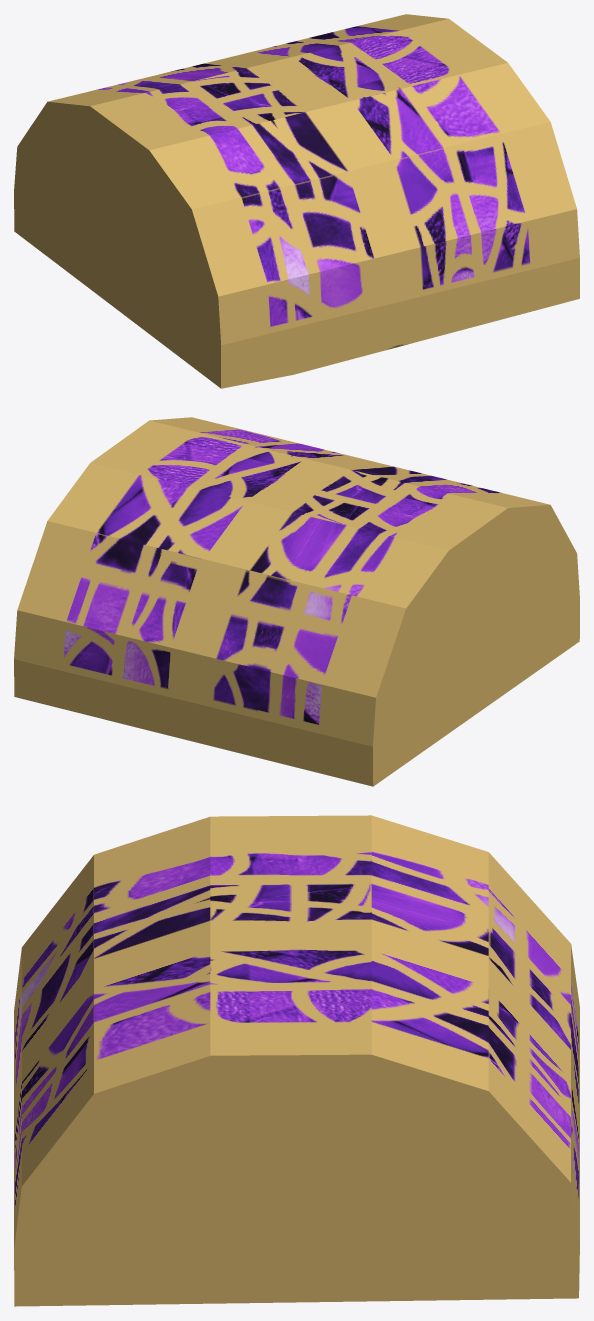
Rendered from chestTop2.glb.
3 views of the same model, one above another, from view 1: azimuth 30°, elevation 25°; view 2: azimuth 150°, elevation 25°; view 3: azimuth 270°, elevation 25° (orthographic). The views are drawn at different scales.
Visible parts, largest first — view 1: chest01.001; view 2: chest01.001; view 3: chest01.001.
Boxes of the visible parts, x1,y1,x2,y2 form: chest01.001: [14, 14, 579, 388]; chest01.001: [14, 417, 579, 786]; chest01.001: [14, 815, 579, 1306].
Bounding box in the file's own units: 1 × 0.5074 × 1.
1 material, 1 textured.
